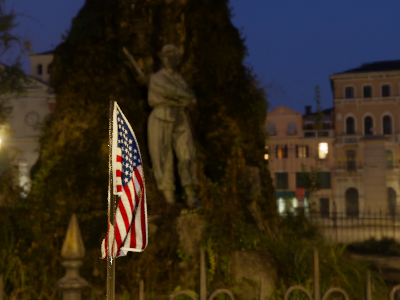America flag: (102, 101, 150, 262)
